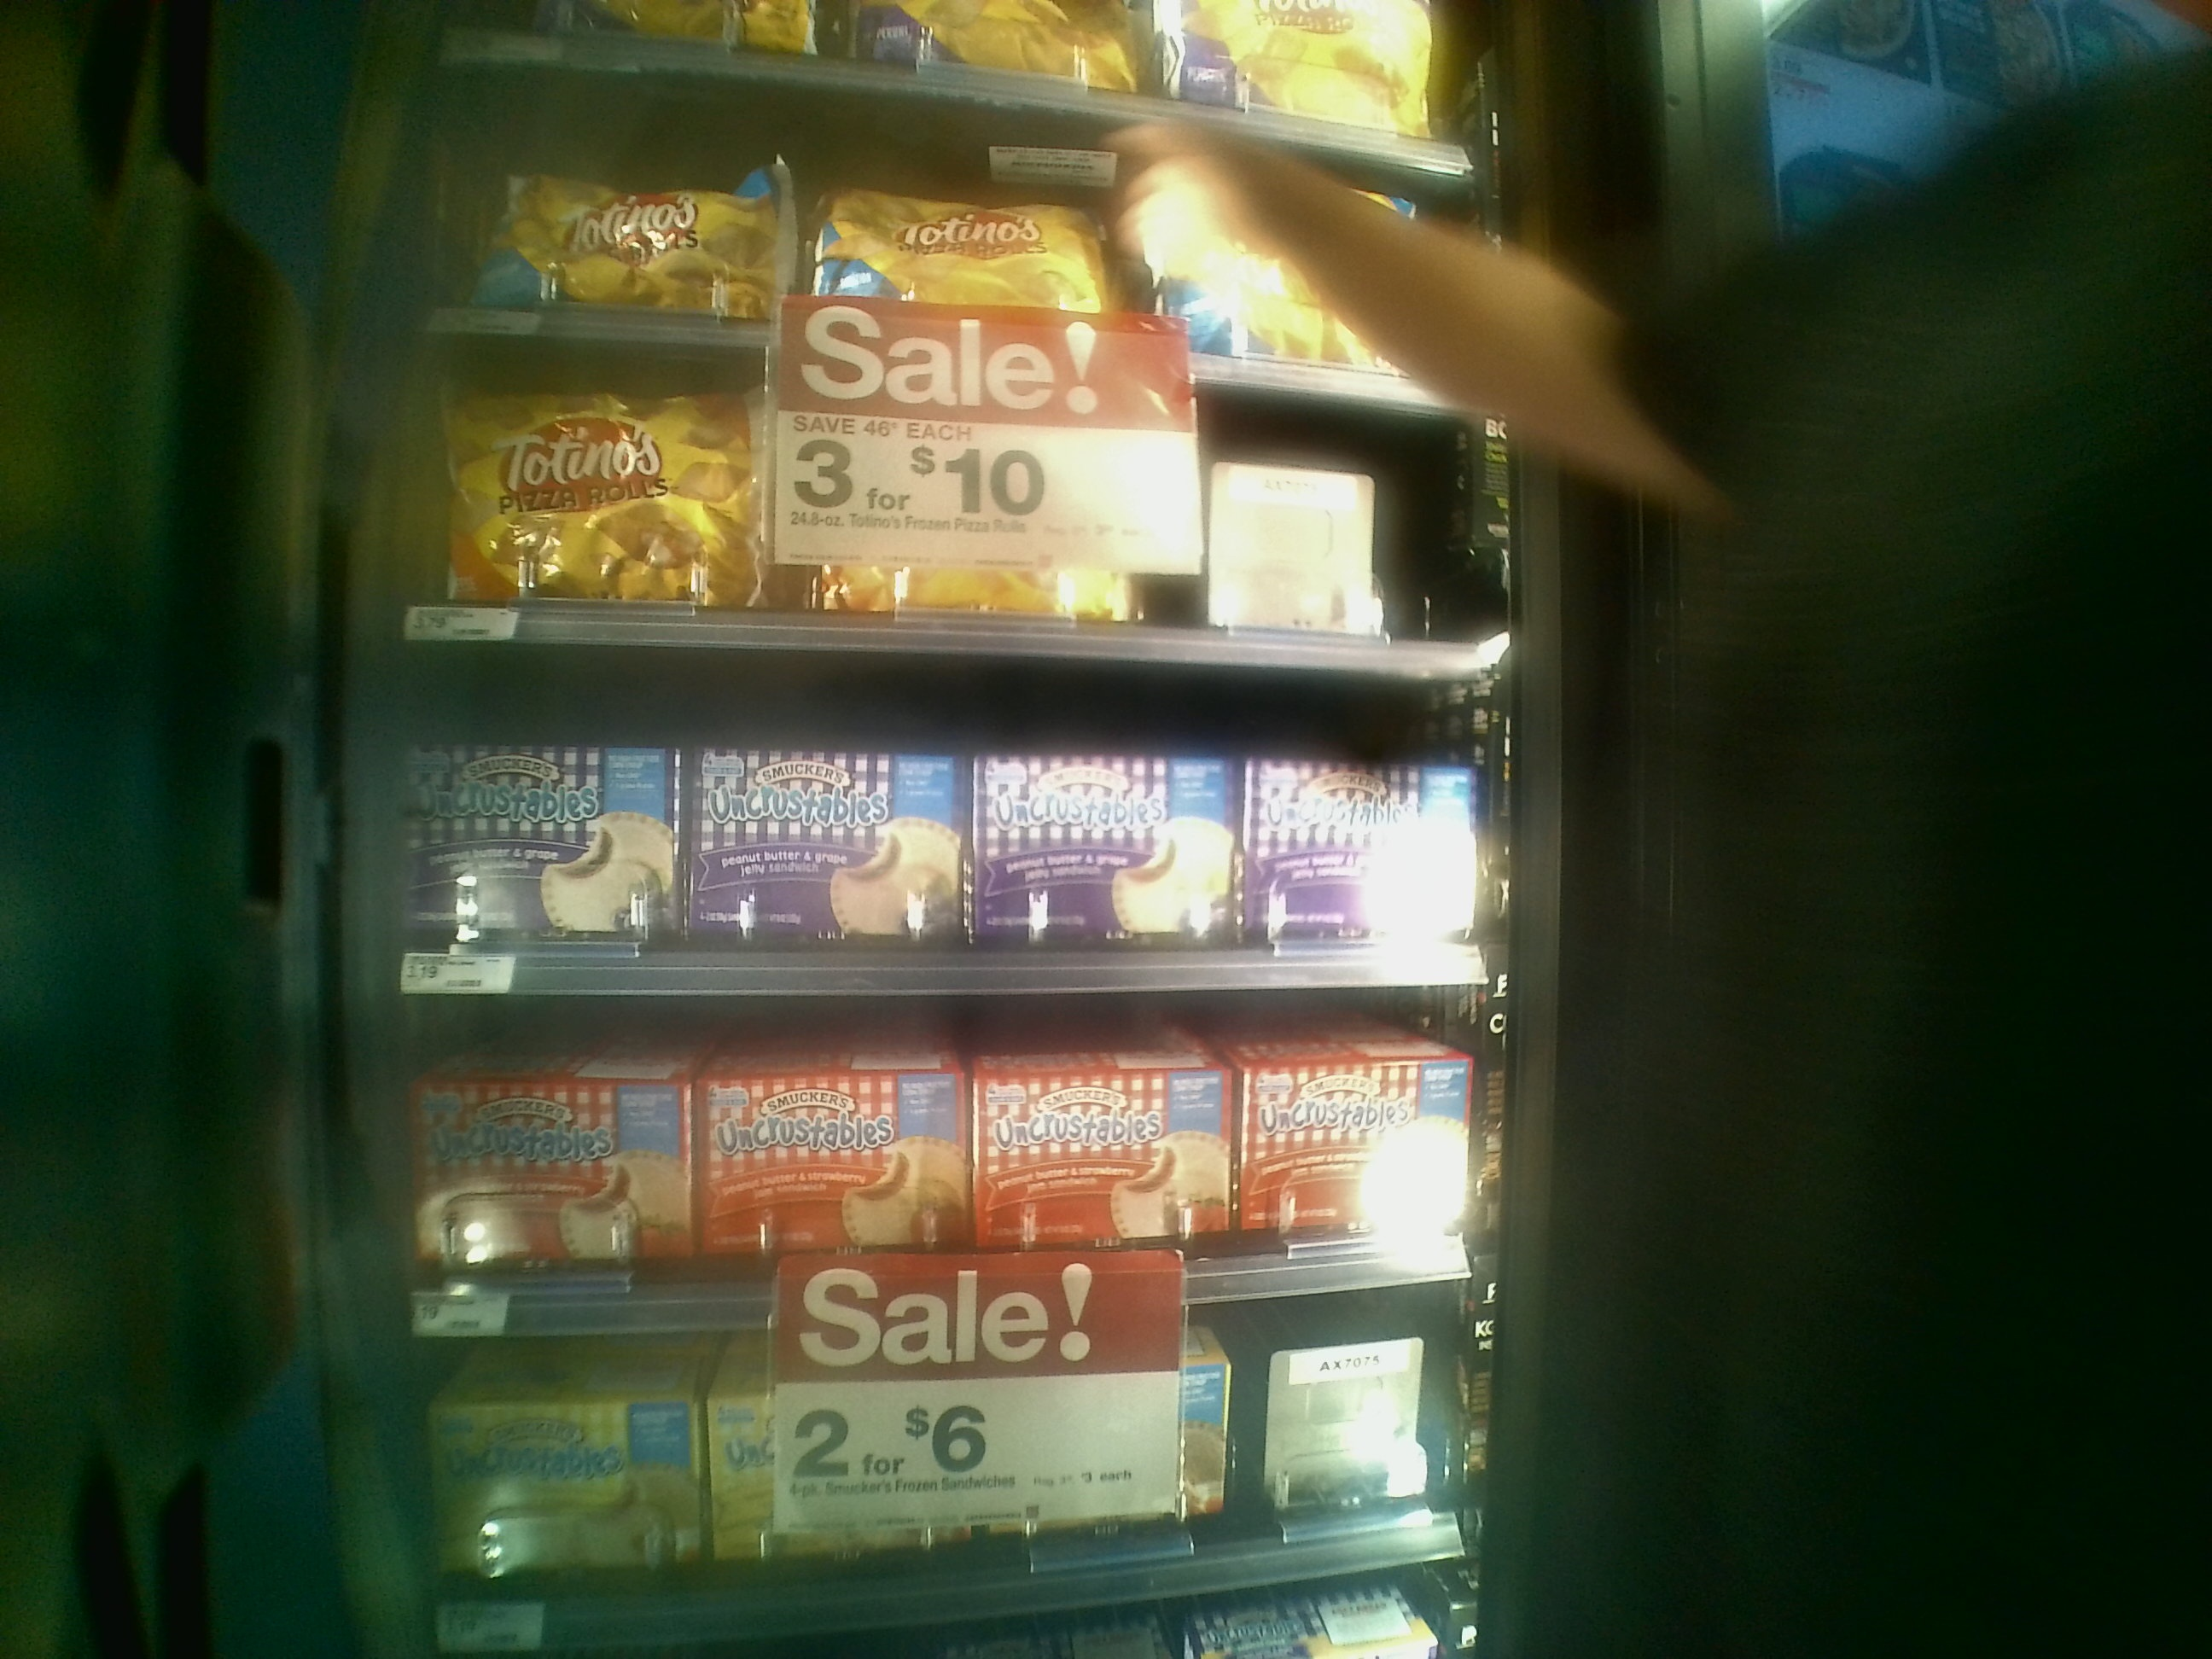shelf: (388, 643, 1498, 1002), (383, 1018, 1489, 1317), (404, 1331, 1489, 1626)
